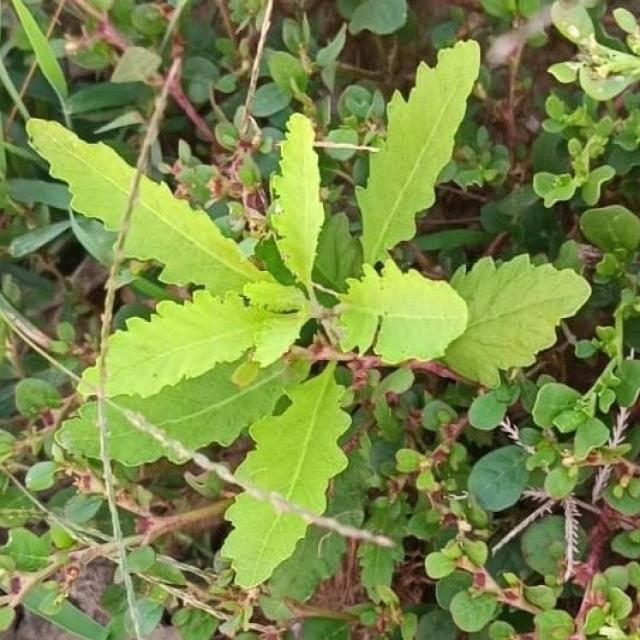weed: (26, 41, 592, 514), (104, 42, 592, 514), (28, 122, 133, 230), (223, 493, 309, 588)
